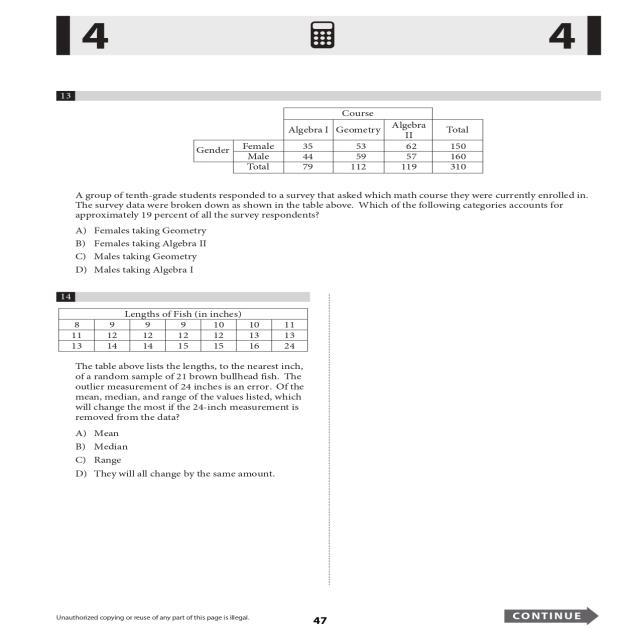Answer_Block: (52, 222, 606, 284), (54, 426, 322, 494)
Question_Answer_Block: (52, 86, 606, 284), (52, 285, 322, 495)
Question_Block: (52, 86, 606, 222), (52, 284, 322, 426)
Question_Paper_Area: (53, 86, 607, 285), (52, 286, 322, 569)
